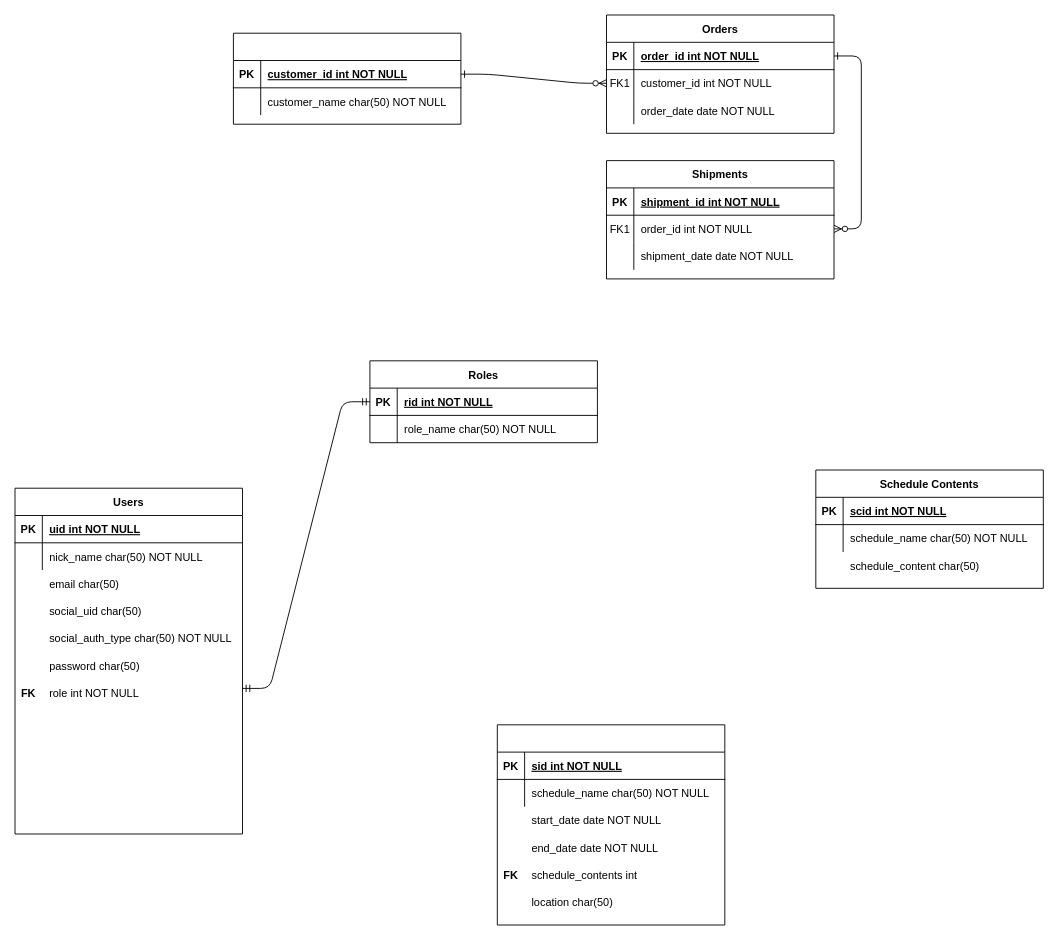
The diagram is 1058 pixels wide and 940 high, and some of its shapes have lost their labels. Here are the shapes that lost their labels. From the top down, the box of each, then its label:
(233, 32, 461, 124): Customers
(496, 724, 725, 925): Schedules
